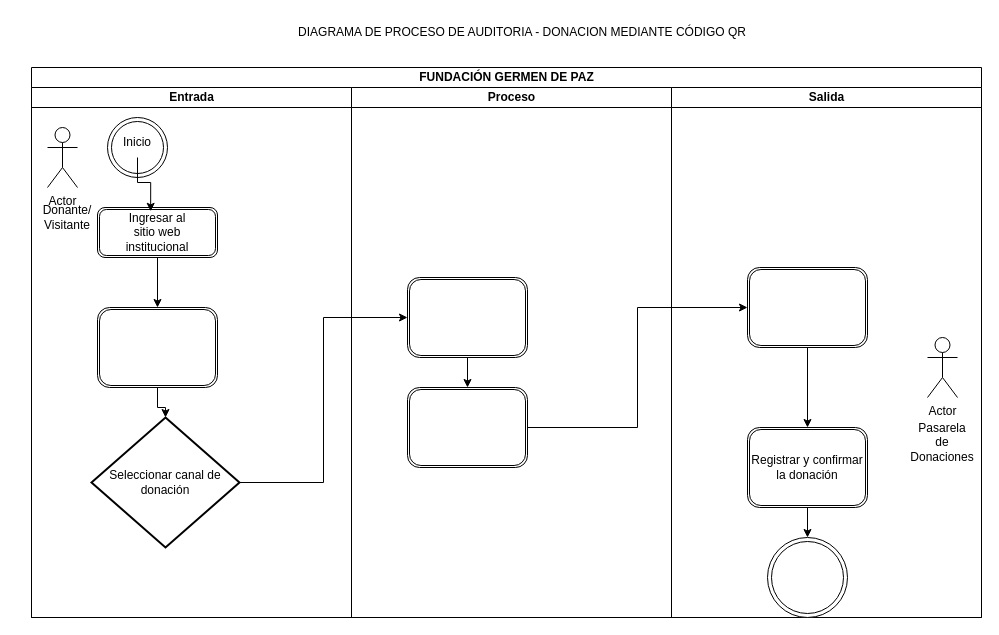
Some shapes in this 999 by 635 pixel diagram are drawn without their labels. The shapes that lost their labels are listed below. From the top down, each one's centre as x and y in pixels, then its label:
At (467,317): "Mostrar QR Bancolobia".
At (807,307): "Validar Donación en la cuenta oficial".
At (157,347): "Consultar historia y programas sociales".
At (467,427): "Donante escanea QR y realiza la donación".
At (807,577): "Fin".
